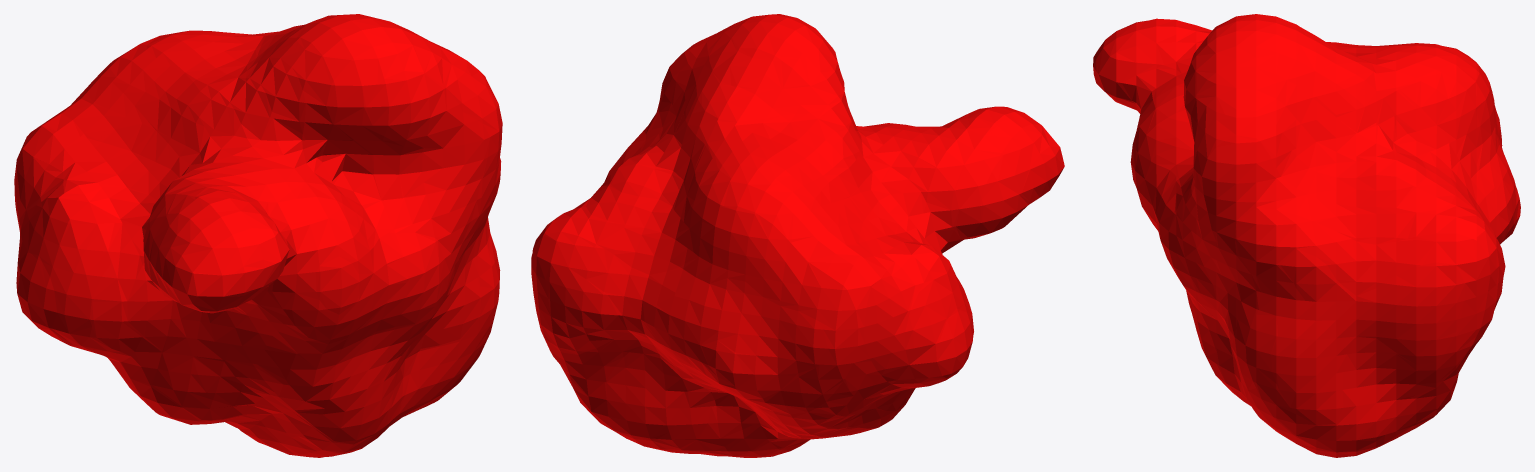
The model's file is yccU_coarse.dae.
The picture shows the model from 3 angles, left to right: view 1: azimuth 30°, elevation 25°; view 2: azimuth 150°, elevation 25°; view 3: azimuth 270°, elevation 25°; orthographic projection. The views are drawn at different scales.
Parts seen in each view (by area): view 1: yccU; view 2: yccU; view 3: yccU.
Part boxes in pixels (x1=…): yccU: x1=14, y1=14, x2=502, y2=457; yccU: x1=531, y1=14, x2=1064, y2=457; yccU: x1=1093, y1=14, x2=1520, y2=457.
Bounding box in the file's own units: 42.27 × 41.59 × 40.05.
